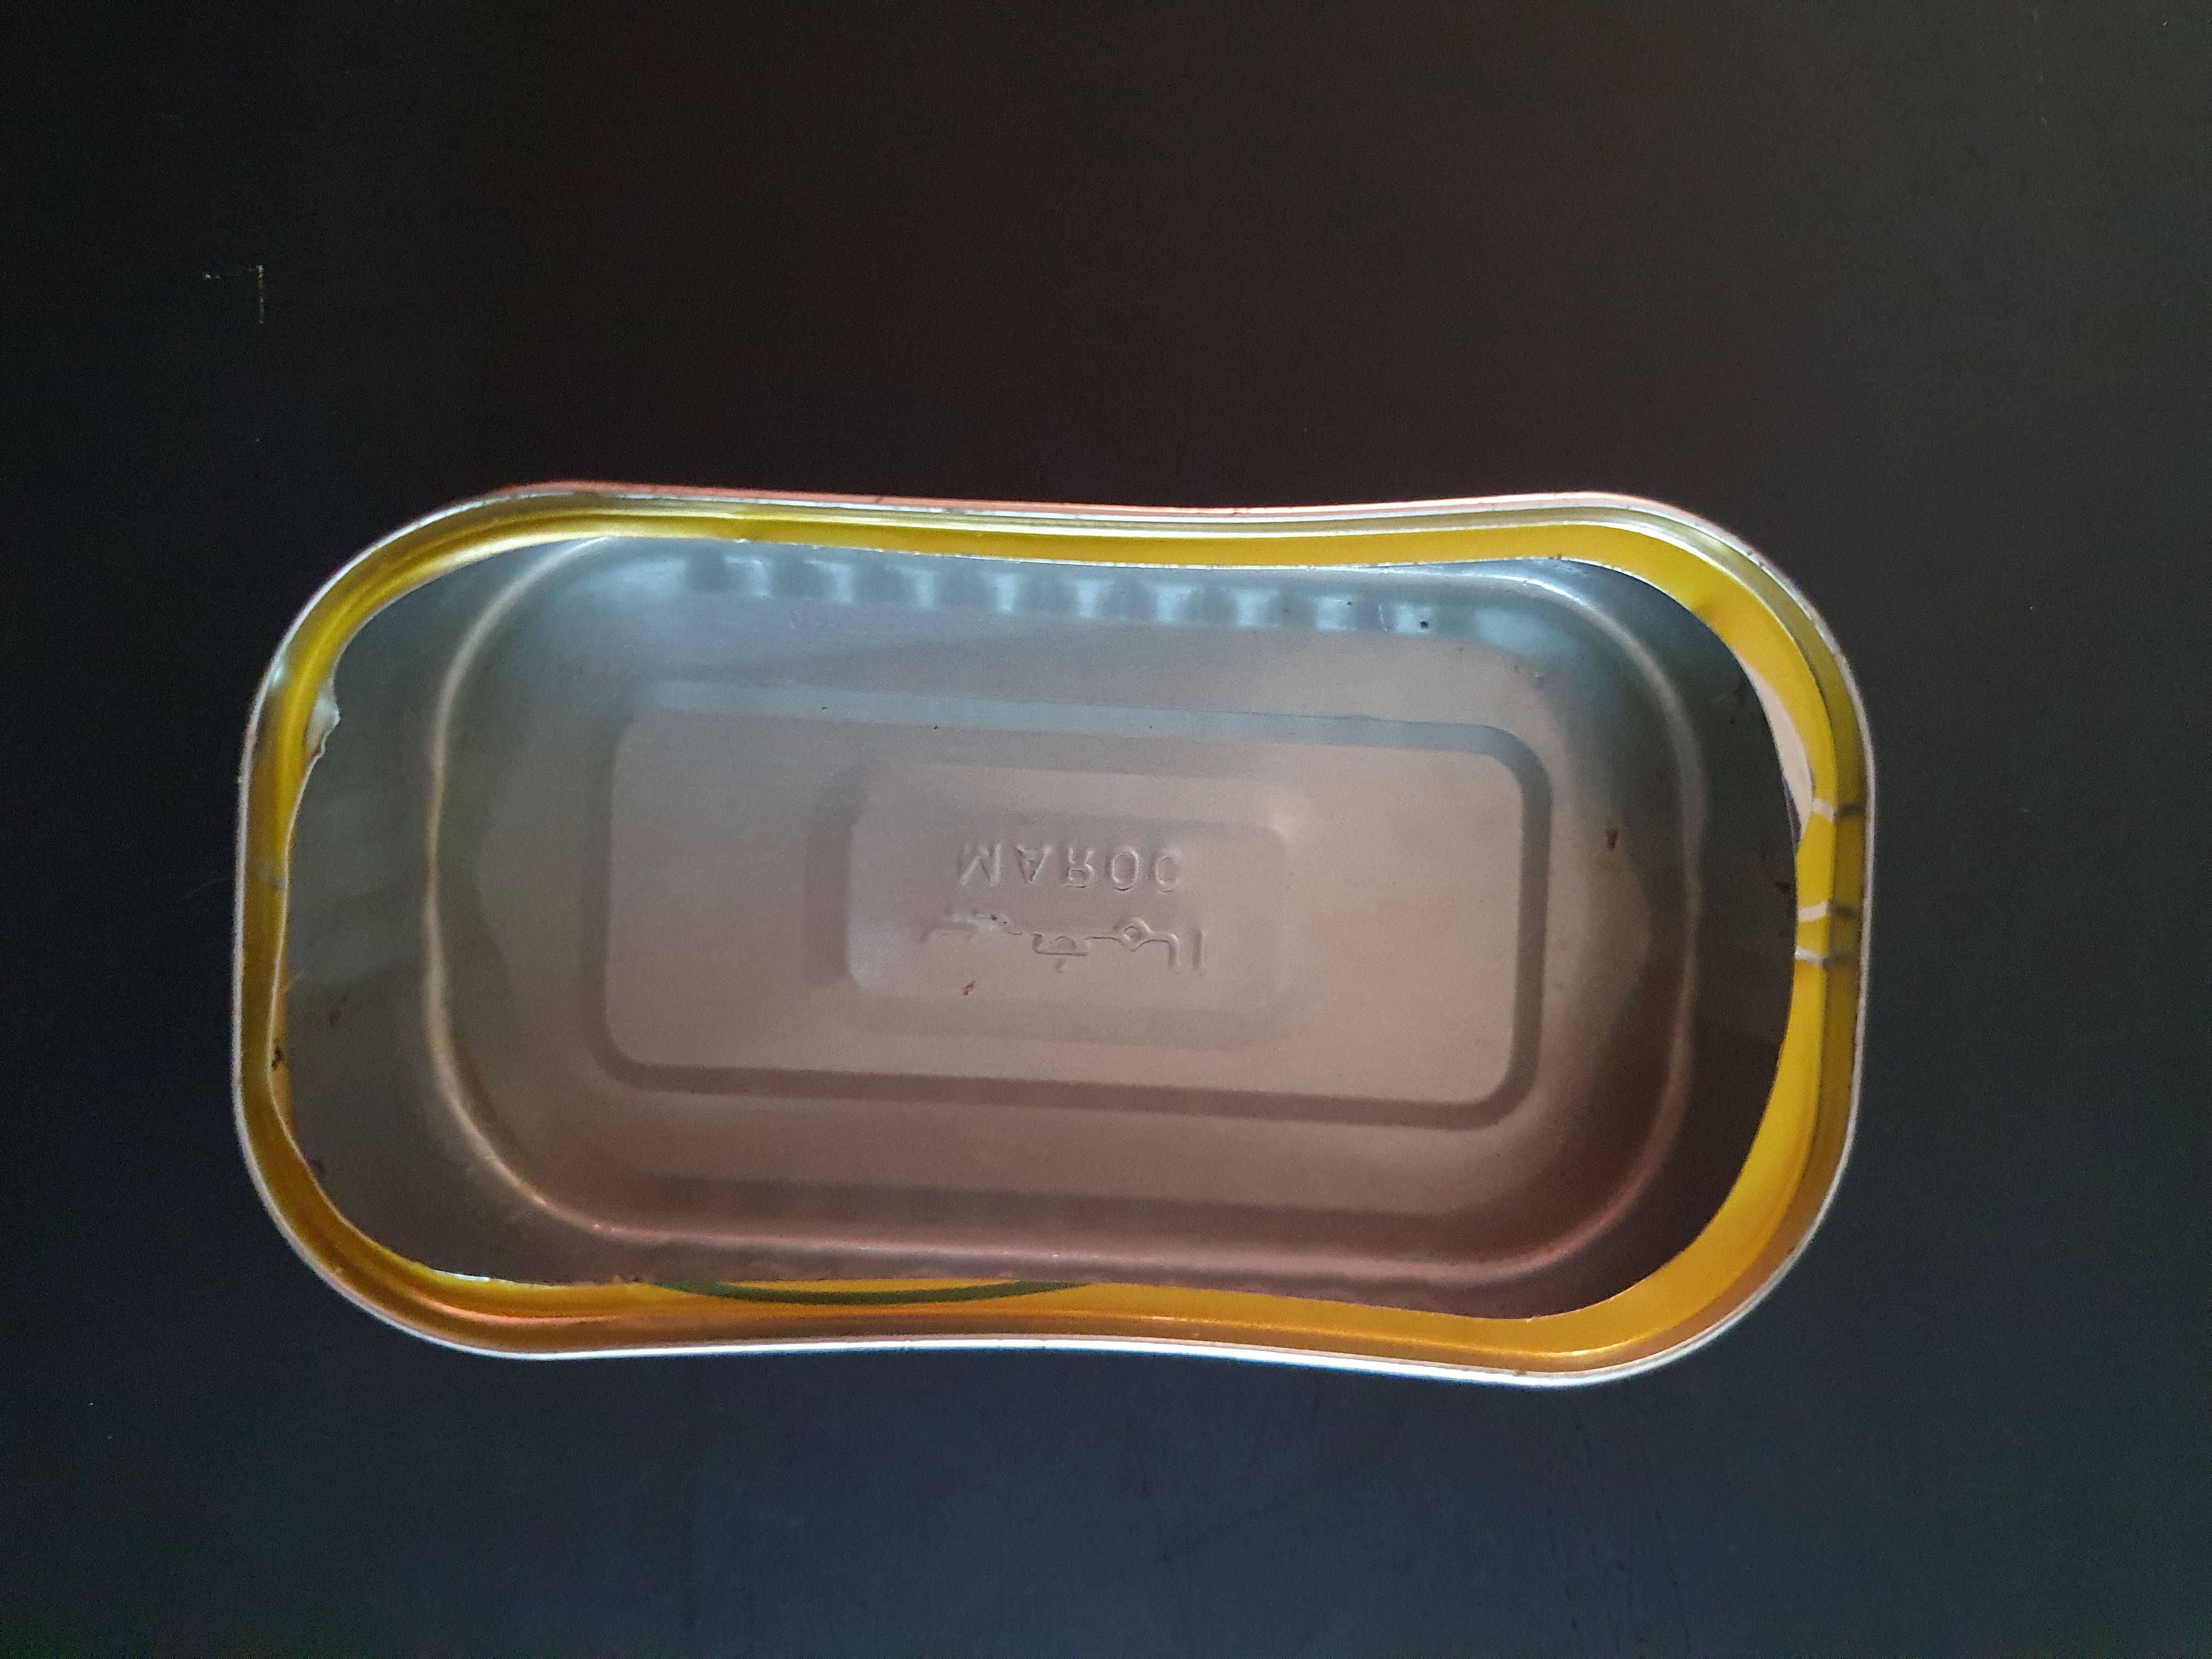metal: (185, 404, 1923, 1476)
